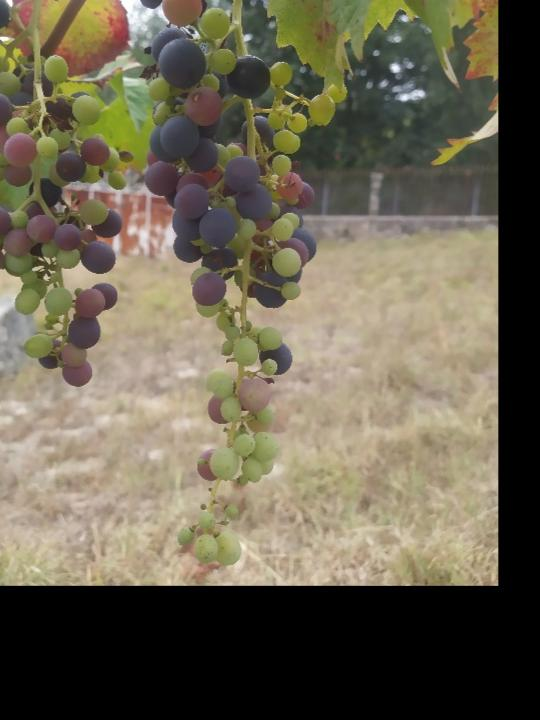grape: (130, 0, 347, 565), (0, 0, 132, 391)
